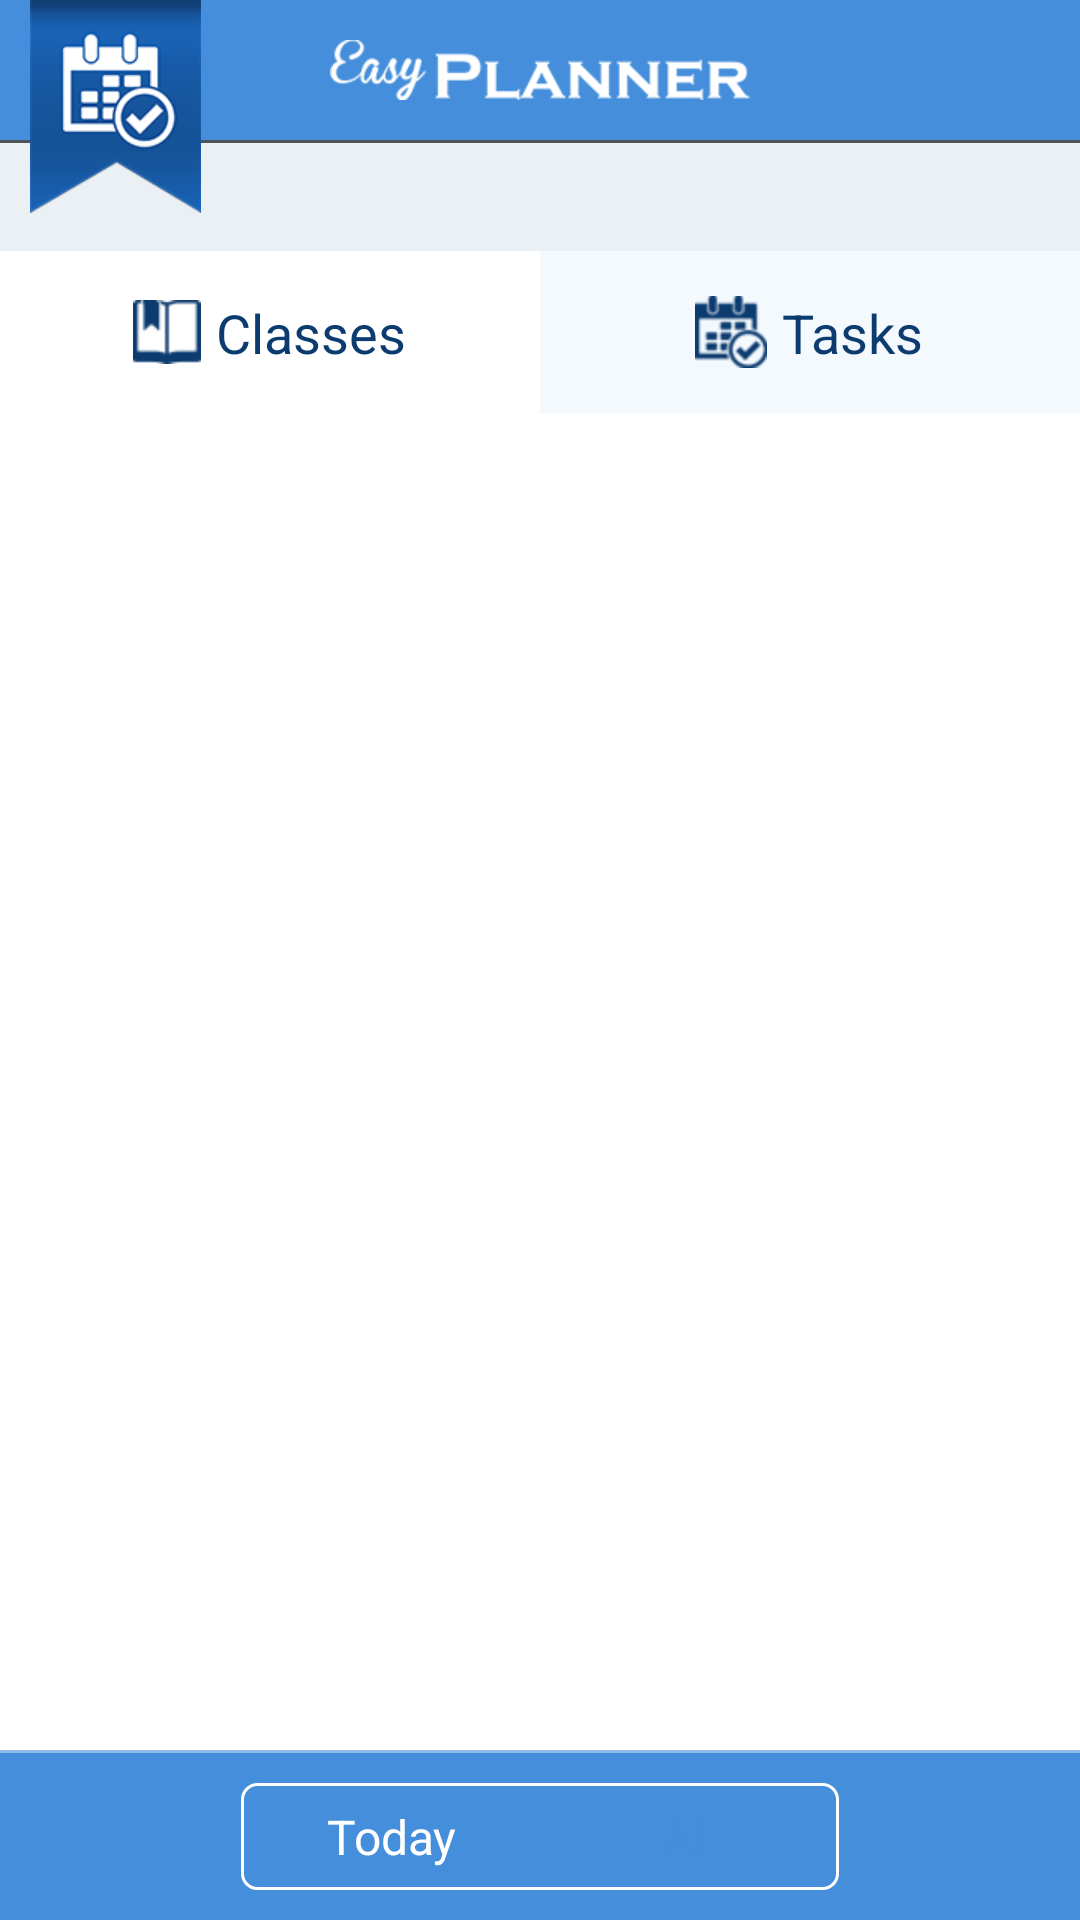

Named icons in this screenshot (1080px x 1920px) and their centers, (x=x, y=y):
ribbon: (x=115, y=106)
